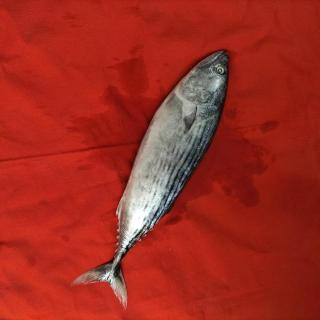Ikan: (95, 47, 227, 290)
